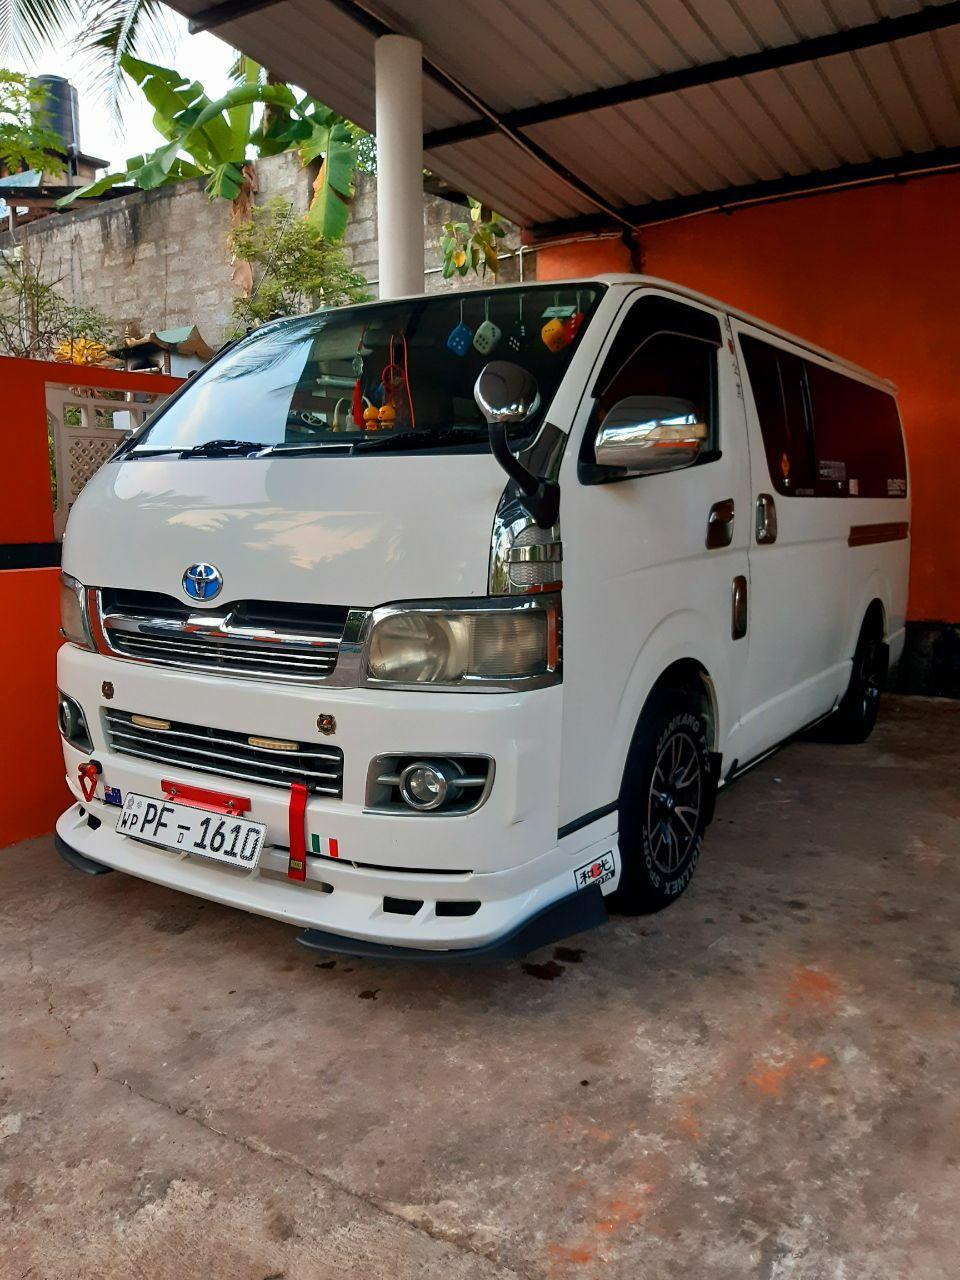van: (53, 276, 910, 967)
